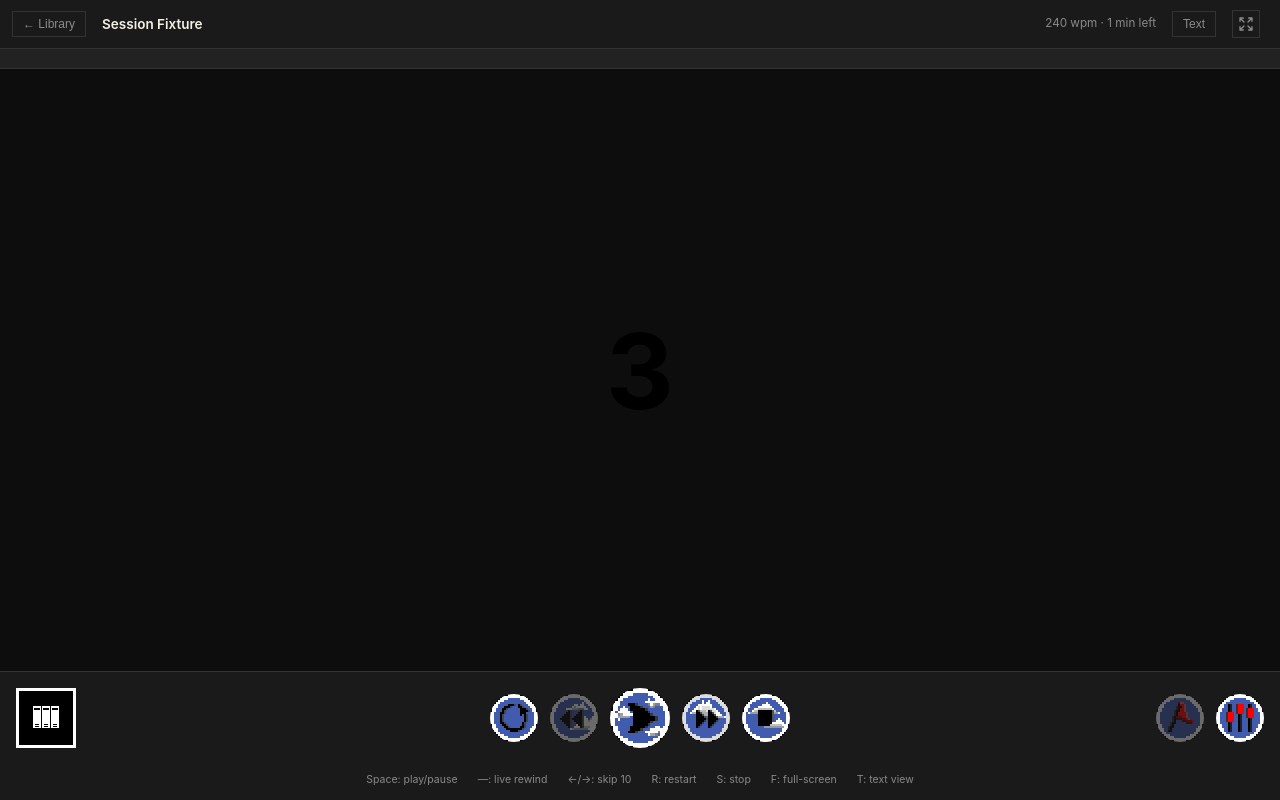
Test case: Reader session - countdown to playFrom › cancels the countdown when Stop is pressed mid-count
Click the button named "Stop" at (766, 718), box [742, 694, 790, 742]
Wait 5000 ms
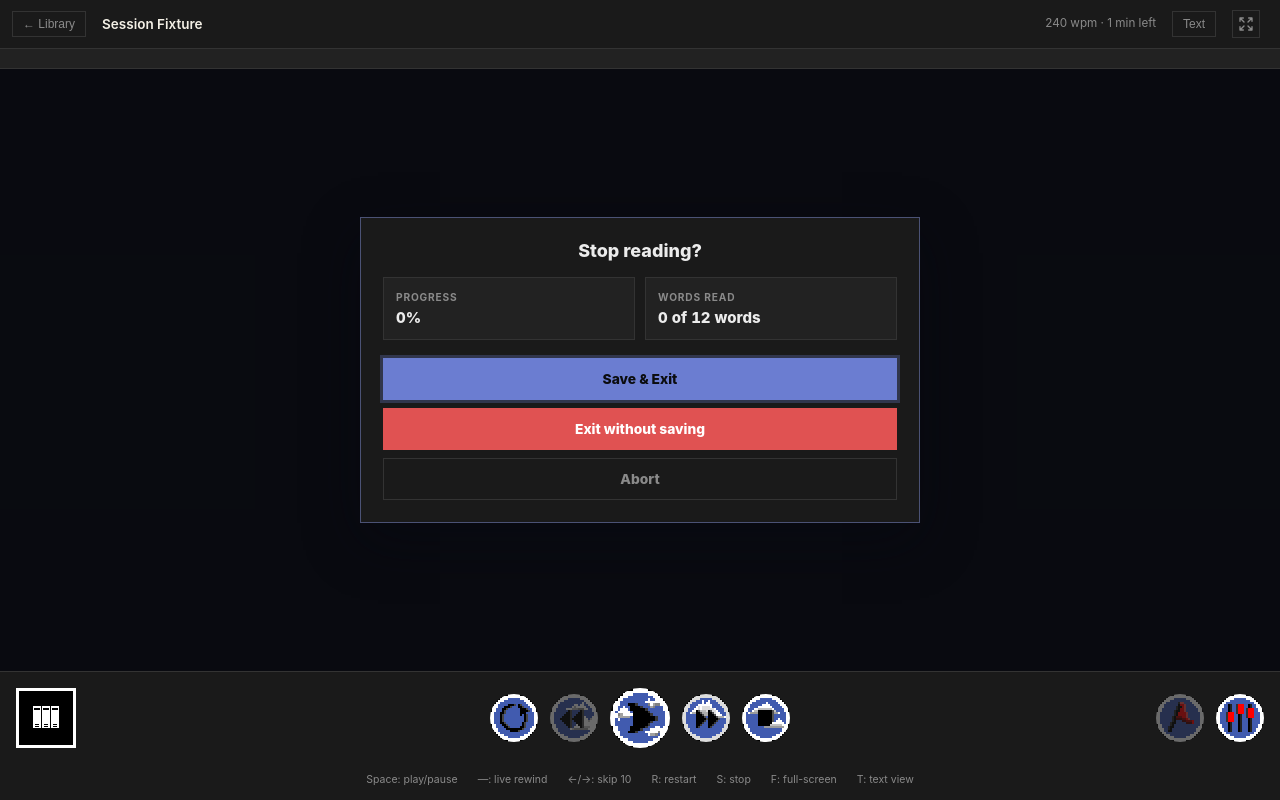
Expected: the element with class "reader-countdown" is gone
